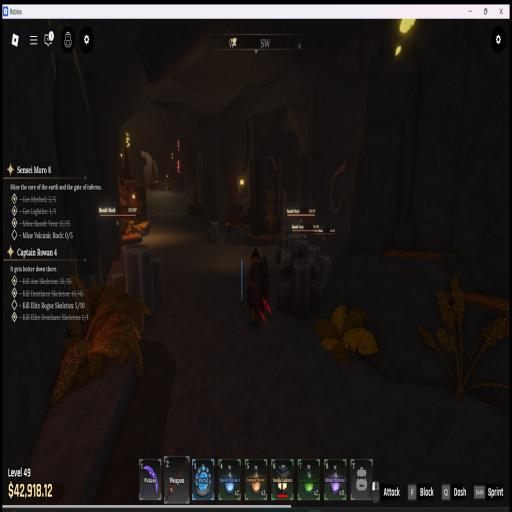player: (247, 249, 271, 325)
rock: (113, 245, 165, 329), (277, 240, 330, 318), (276, 226, 299, 262), (206, 222, 219, 245)
